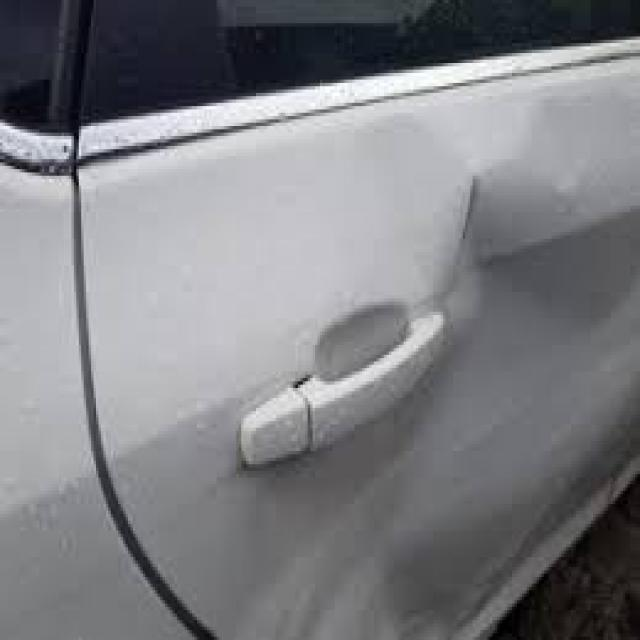severe: (211, 131, 640, 560)
